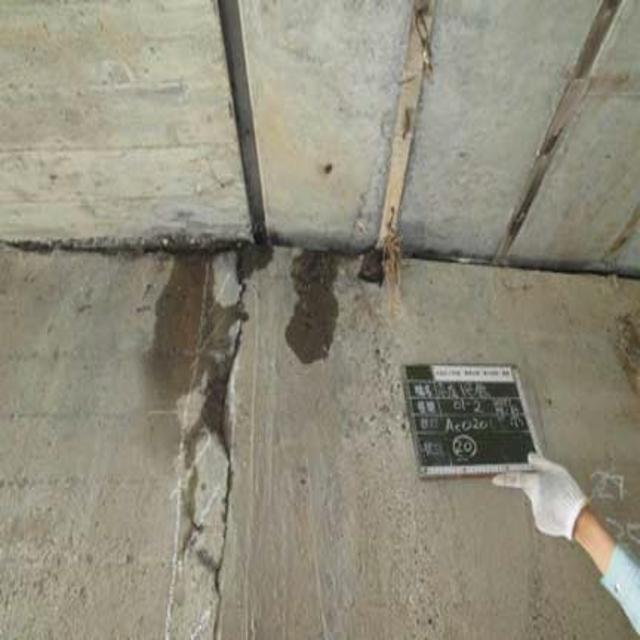leakage: (120, 200, 353, 569)
